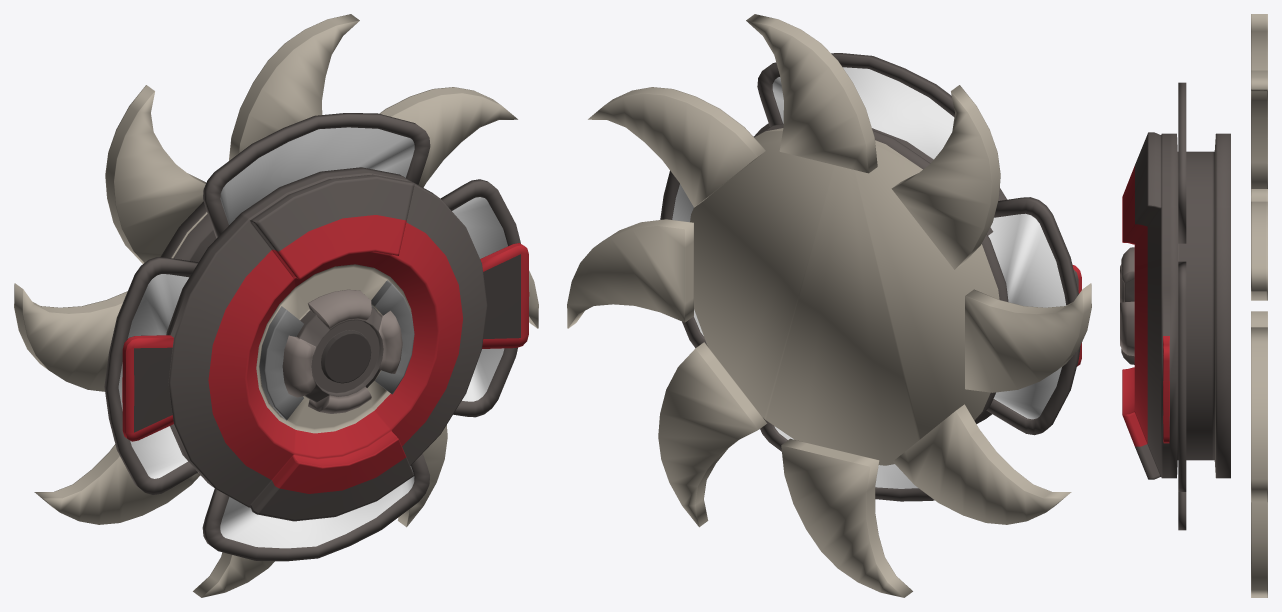
File: Saw_8.fbx
3 renders of one model, left to right at view 1: azimuth 30°, elevation 25°; view 2: azimuth 150°, elevation 25°; view 3: azimuth 270°, elevation 25°, orthographic. The views are drawn at different scales.
Parts seen in each view (by area): view 1: Cylinder.025, Cylinder.027, Cylinder.033, Cylinder.026, Cylinder.031, Cylinder.032, Cylinder.037, Cylinder.029; view 2: Cylinder.025, Cylinder.037, Cylinder.033, Cylinder.027, Cylinder.029, Cylinder.032, Cylinder.031, Cylinder.026, Cylinder.028; view 3: Cylinder.025, Cylinder.028, Cylinder.033, Cylinder.032, Cylinder.029, Cylinder.027, Cylinder.031, Cylinder.026.
Part boxes in pixels (left/top/right/bottom): Cylinder.025: left=104, top=113, right=529, bottom=561; Cylinder.027: left=105, top=85, right=205, bottom=263; Cylinder.033: left=229, top=14, right=359, bottom=160; Cylinder.026: left=14, top=283, right=127, bottom=391; Cylinder.031: left=34, top=444, right=199, bottom=524; Cylinder.032: left=379, top=87, right=517, bottom=187; Cylinder.037: left=193, top=552, right=274, bottom=597; Cylinder.029: left=397, top=425, right=447, bottom=527; Cylinder.025: left=660, top=53, right=1081, bottom=501; Cylinder.037: left=781, top=438, right=912, bottom=597; Cylinder.033: left=746, top=14, right=877, bottom=173; Cylinder.027: left=891, top=85, right=1000, bottom=269; Cylinder.029: left=658, top=342, right=767, bottom=527; Cylinder.032: left=588, top=87, right=765, bottom=207; Cylinder.031: left=893, top=404, right=1071, bottom=524; Cylinder.026: left=965, top=283, right=1091, bottom=392; Cylinder.028: left=567, top=219, right=693, bottom=328; Cylinder.025: left=1120, top=82, right=1230, bottom=530; Cylinder.028: left=1251, top=327, right=1267, bottom=502; Cylinder.033: left=1251, top=70, right=1267, bottom=188; Cylinder.032: left=1251, top=201, right=1267, bottom=300; Cylinder.029: left=1251, top=502, right=1267, bottom=597; Cylinder.027: left=1251, top=14, right=1267, bottom=70; Cylinder.031: left=1251, top=311, right=1267, bottom=327; Cylinder.026: left=1251, top=189, right=1267, bottom=201.
Bounding box in the file's own units: 0.4865 × 0.4864 × 0.1281.
Materials: 2 (1 with a texture image).
